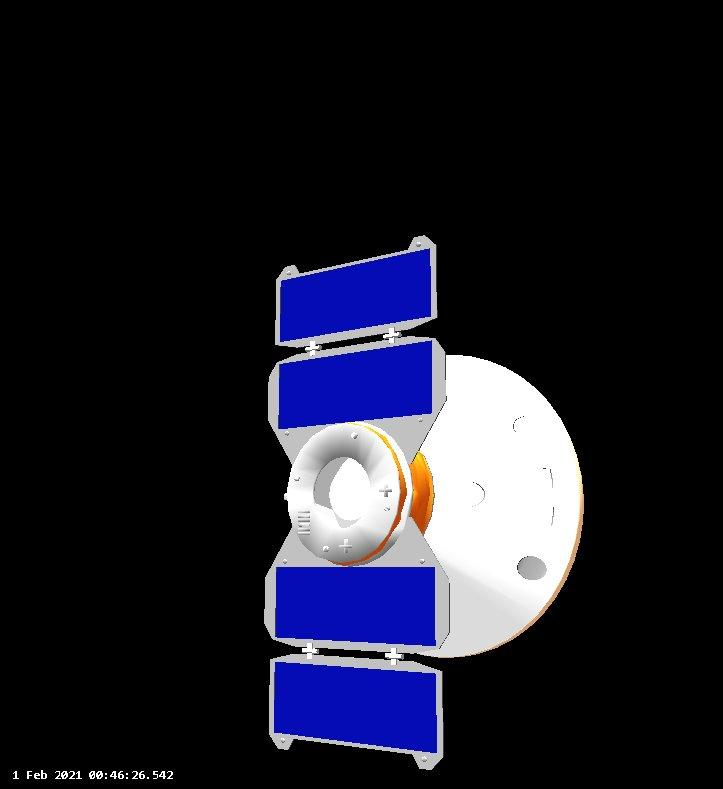body: (314, 354, 586, 659)
solar: (275, 239, 440, 350), (267, 335, 454, 431), (267, 666, 443, 761), (266, 560, 449, 649)
